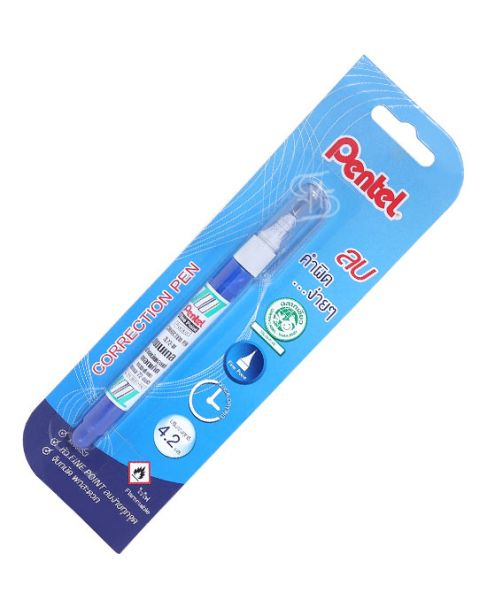Correction_fluid: (66, 187, 309, 454)
